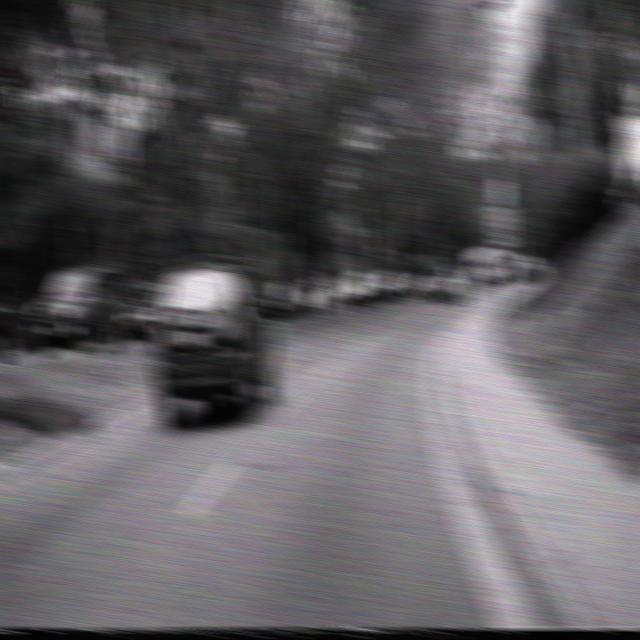speedLimit25: (491, 203, 515, 246)
